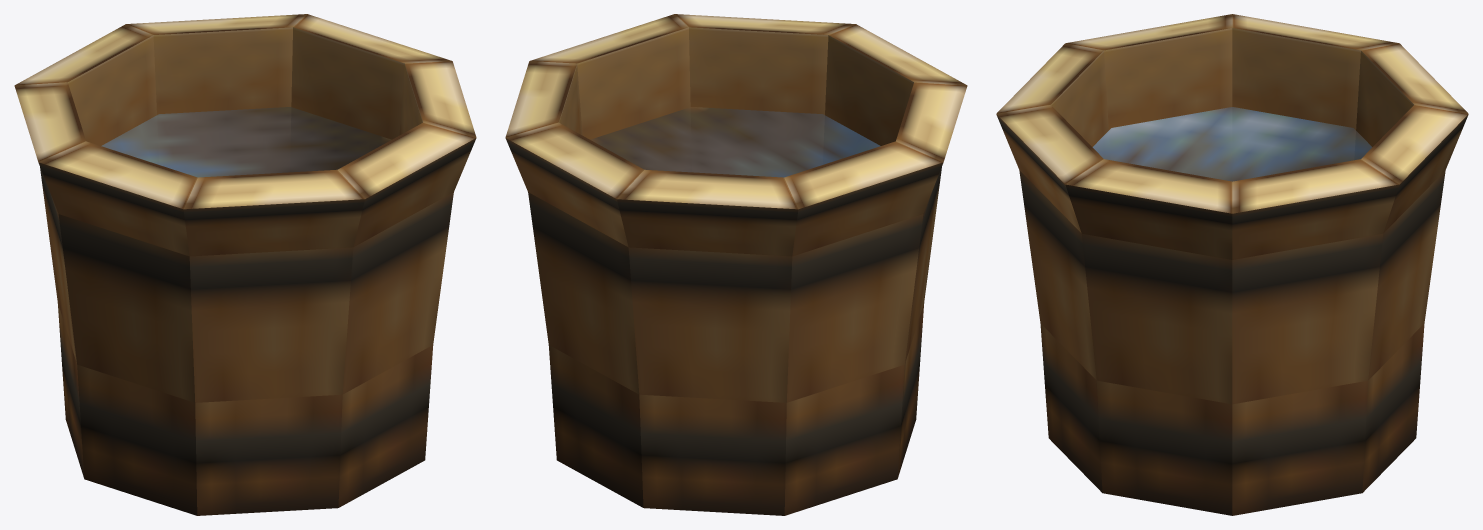
File: Inside_Poly_Bucket_01_Water.obj
3 views of the same model, side by side, from view 1: azimuth 30°, elevation 25°; view 2: azimuth 150°, elevation 25°; view 3: azimuth 270°, elevation 25° (orthographic).
Parts seen in each view (by area): view 1: Sphere_Sphere.004, Sphere_Sphere.001; view 2: Sphere_Sphere.004, Sphere_Sphere.001; view 3: Sphere_Sphere.004, Sphere_Sphere.001.
Part boxes in pixels (<box>): Sphere_Sphere.004: <box>14,14,476,515</box>; Sphere_Sphere.001: <box>101,107,391,177</box>; Sphere_Sphere.004: <box>505,14,967,515</box>; Sphere_Sphere.001: <box>590,107,880,177</box>; Sphere_Sphere.004: <box>996,14,1468,515</box>; Sphere_Sphere.001: <box>1093,107,1371,181</box>.
Size of the model in its own units: 0.6939 by 0.5402 by 0.6939.
2 materials, 2 textured.
